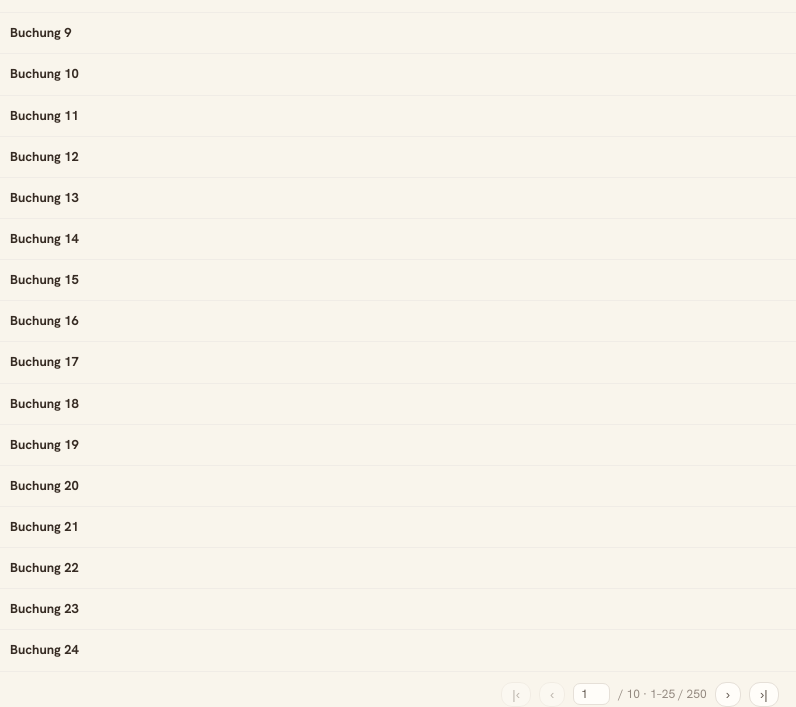
Scenario: DataTable — Seitensteuerung › springt mit einem Klick auf die letzte Seite
(page scrolled)
Click the button titled "letzte" at {"x": 764, "y": 694}, box [749,682,779,706]
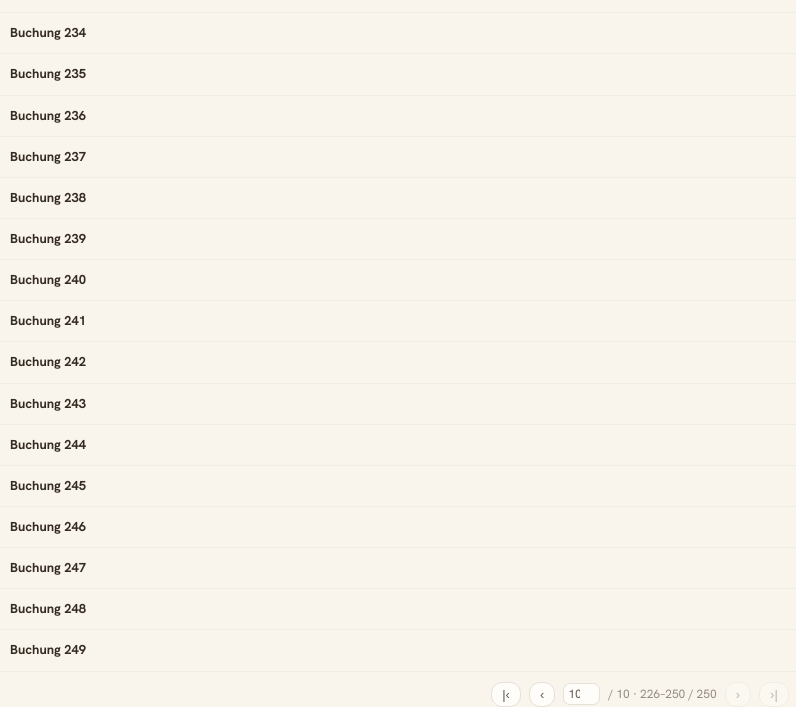
Expected: the text "Buchung 249" is shown, [10,641,86,658]
